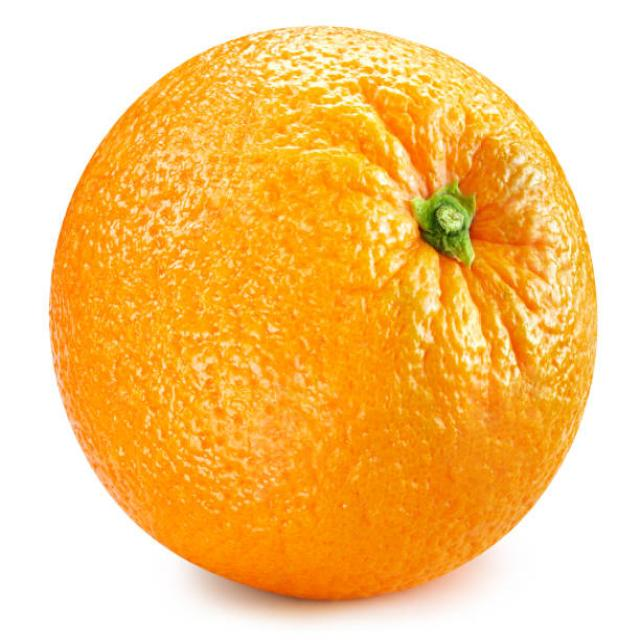Ripe: (46, 15, 602, 605)
